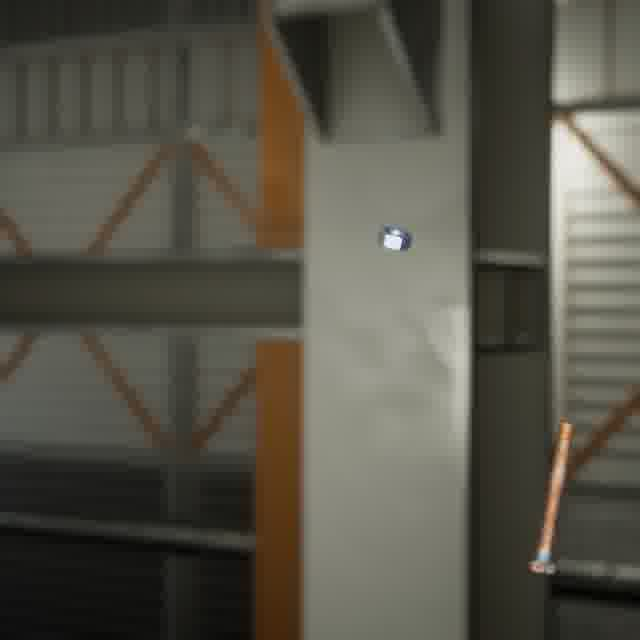bolt: (523, 417, 578, 578)
nut: (372, 222, 416, 254)
